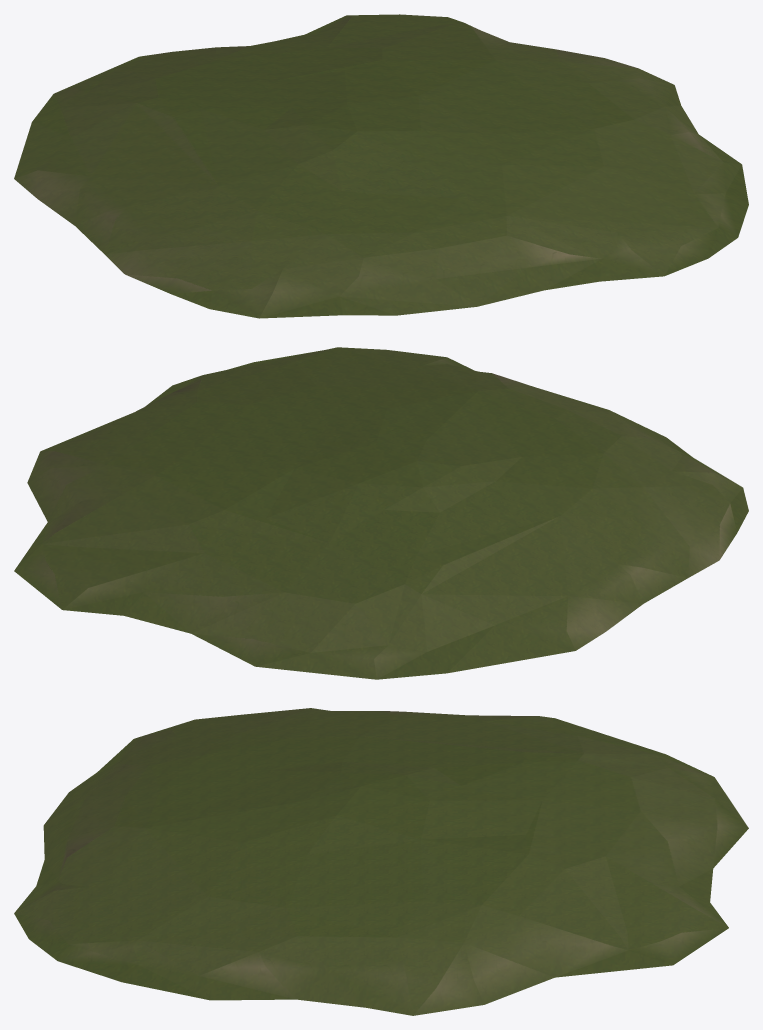
The model's file is SM_Env_Ground_Mound_Large_01.glb.
3 renders of one model, top to bottom at view 1: azimuth 30°, elevation 25°; view 2: azimuth 150°, elevation 25°; view 3: azimuth 270°, elevation 25°, orthographic. The views are drawn at different scales.
Visible parts, largest first — view 1: SM_Env_Ground_Mound_Large_01; view 2: SM_Env_Ground_Mound_Large_01; view 3: SM_Env_Ground_Mound_Large_01.
Part boxes in pixels (x1=…): SM_Env_Ground_Mound_Large_01: x1=14, y1=14, x2=748, y2=318; SM_Env_Ground_Mound_Large_01: x1=14, y1=347, x2=748, y2=679; SM_Env_Ground_Mound_Large_01: x1=14, y1=708, x2=748, y2=1015.
Size of the model in its own units: 36.64 by 3.21 by 37.3.
Materials: 1 (1 with a texture image).
